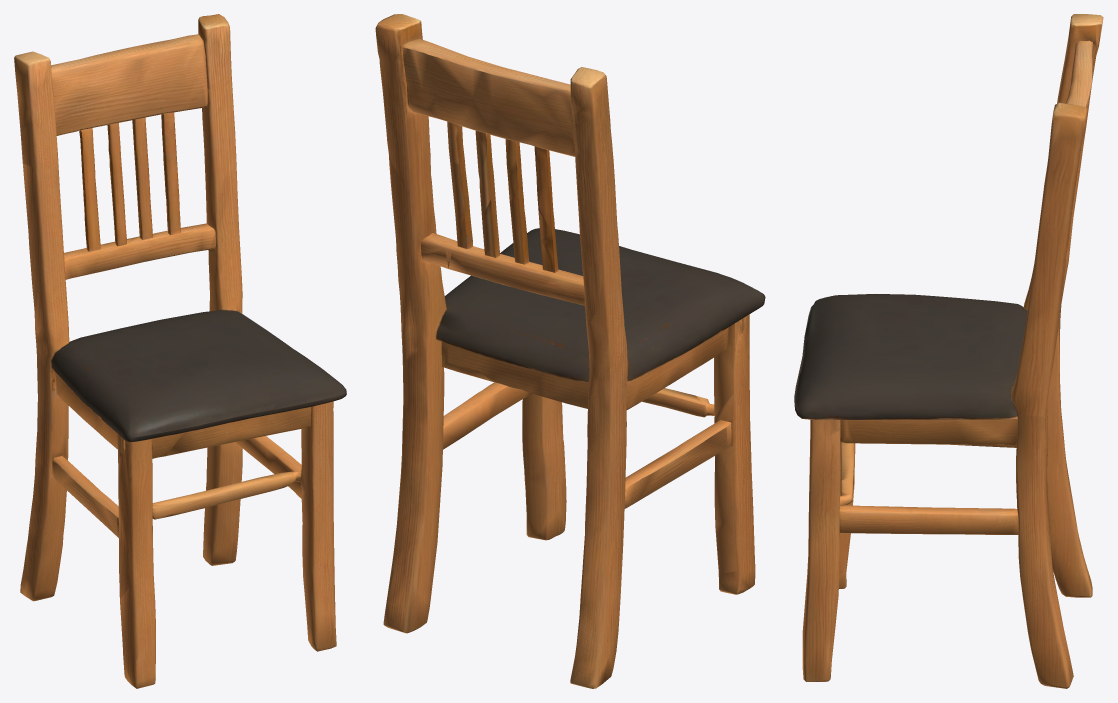
File: dining_chair.glb
The picture shows the model from 3 angles, left to right: view 1: azimuth 30°, elevation 25°; view 2: azimuth 150°, elevation 25°; view 3: azimuth 270°, elevation 25°; orthographic projection. The views are drawn at different scales.
Parts seen in each view (by area): view 1: model; view 2: model; view 3: model.
Boxes of the visible parts, x1,y1,x2,y2 form: model: [14, 14, 346, 688]; model: [375, 14, 765, 688]; model: [794, 14, 1103, 688].
Bounding box in the file's own units: 0.3754 × 0.88 × 0.4295.
1 material, 1 textured.
